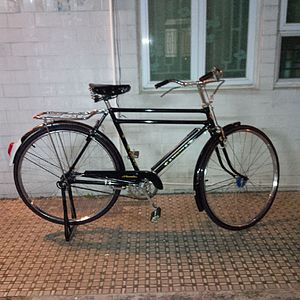cycle: (11, 67, 280, 242)
